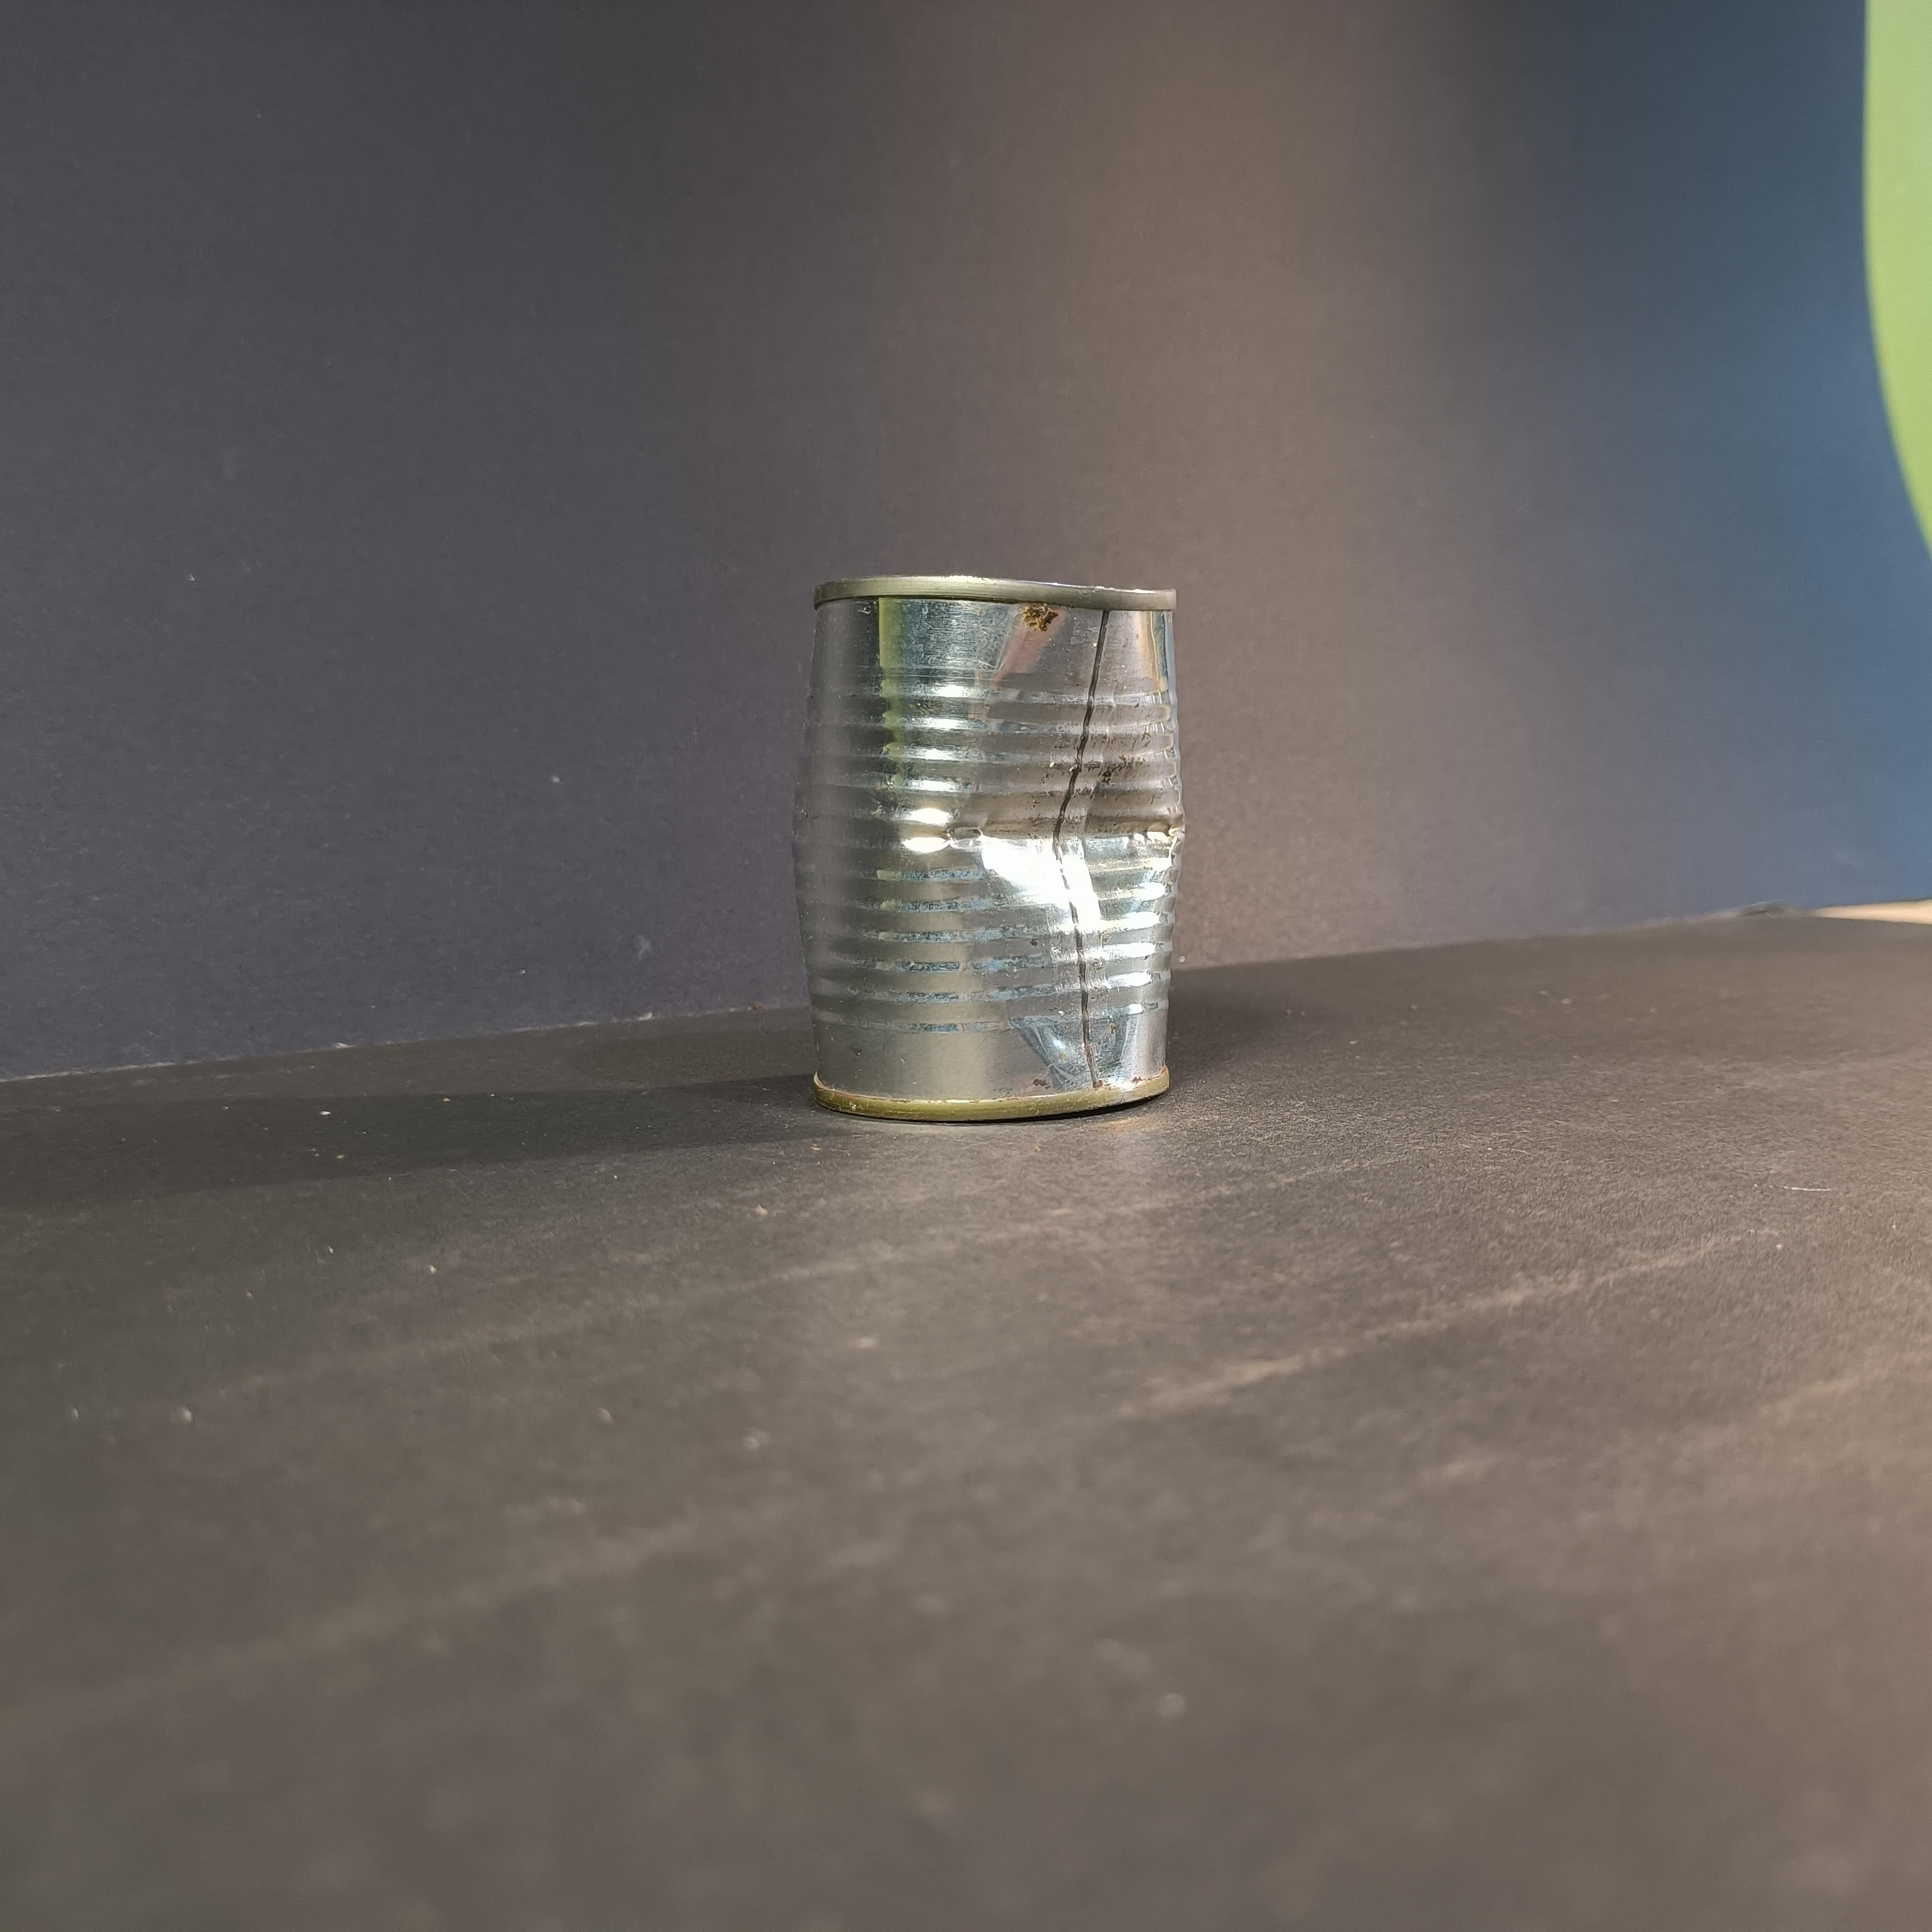Major Defect: (793, 577, 1185, 1120)
